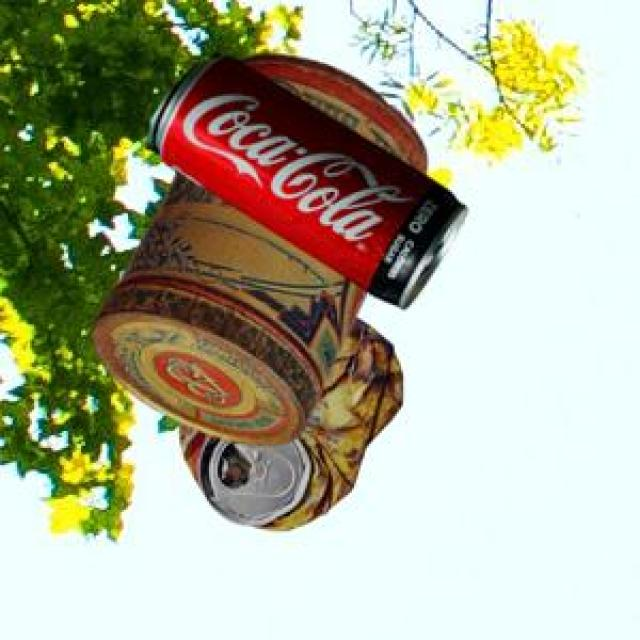logam: (89, 52, 423, 443), (144, 50, 464, 306), (176, 315, 400, 528)
